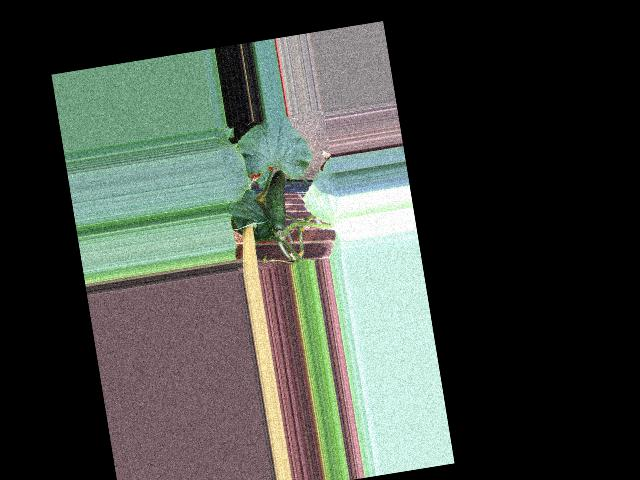cucumber: (261, 169, 294, 232)
